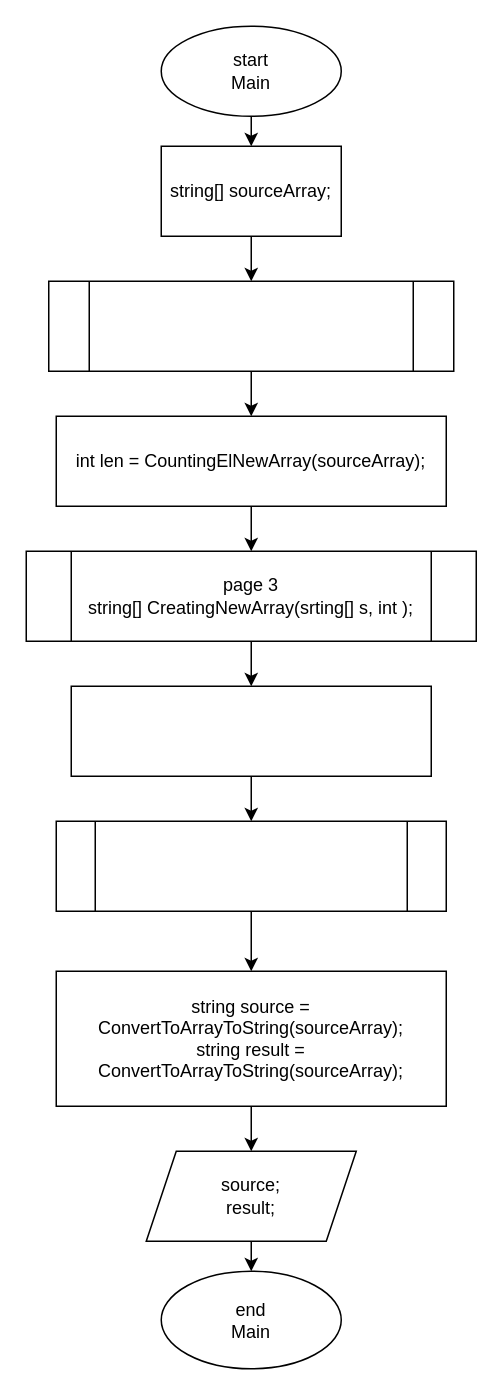
This 503x1395 diagram has some shape labels left out. Here are the shapes that lost their labels. From the top down, the box of each, then its label:
(47, 280, 454, 371): page 2 int CountingElNewArray(string[] );
(70, 685, 431, 776): string[] newArray = CreatingNewArray(sourceArray, len);
(55, 820, 446, 911): page 4 string ConvertArrayToString(string[]);
